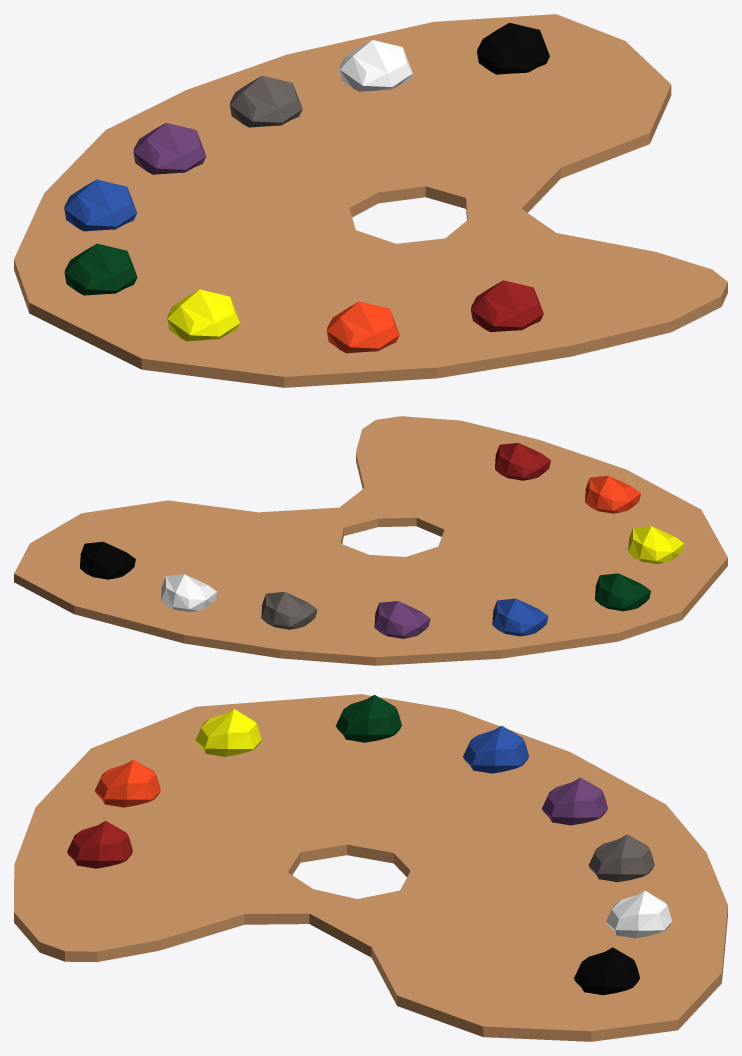
Rendered from 8fe79cae-3816-4fd9-8c88-720191de59cf.glb.
3 renders of one model, top to bottom at view 1: azimuth 30°, elevation 25°; view 2: azimuth 150°, elevation 25°; view 3: azimuth 270°, elevation 25°, orthographic. The views are drawn at different scales.
Parts seen in each view (by area): view 1: Node; view 2: Node; view 3: Node.
Part boxes in pixels (x1,y1,x2,y2): Node: [14, 14, 727, 387]; Node: [14, 416, 727, 665]; Node: [14, 694, 727, 1041].
Size of the model in its own units: 1.61 by 0.1006 by 1.44.
